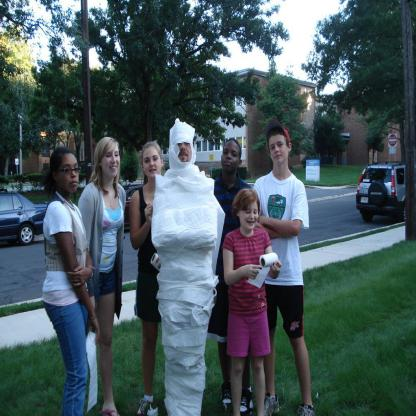face: (58, 160, 80, 193), (102, 148, 121, 178), (270, 136, 289, 165), (175, 135, 194, 164), (241, 203, 260, 230), (143, 151, 162, 177), (222, 146, 241, 170)
